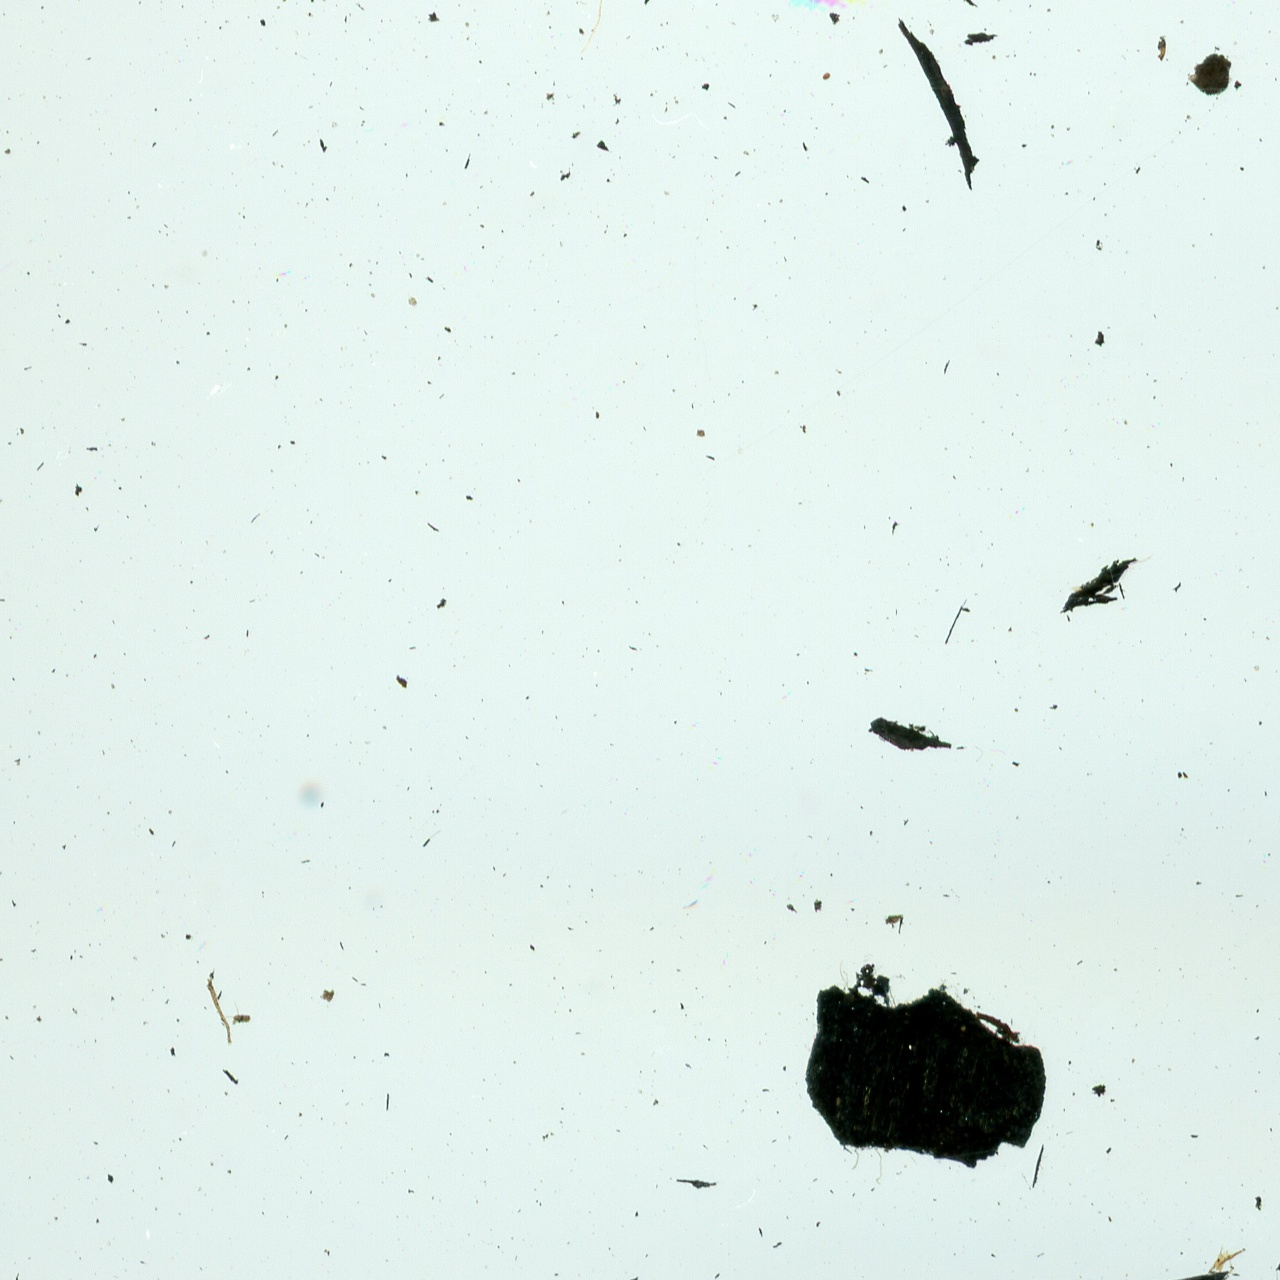arthropod: (735, 0, 893, 13)
